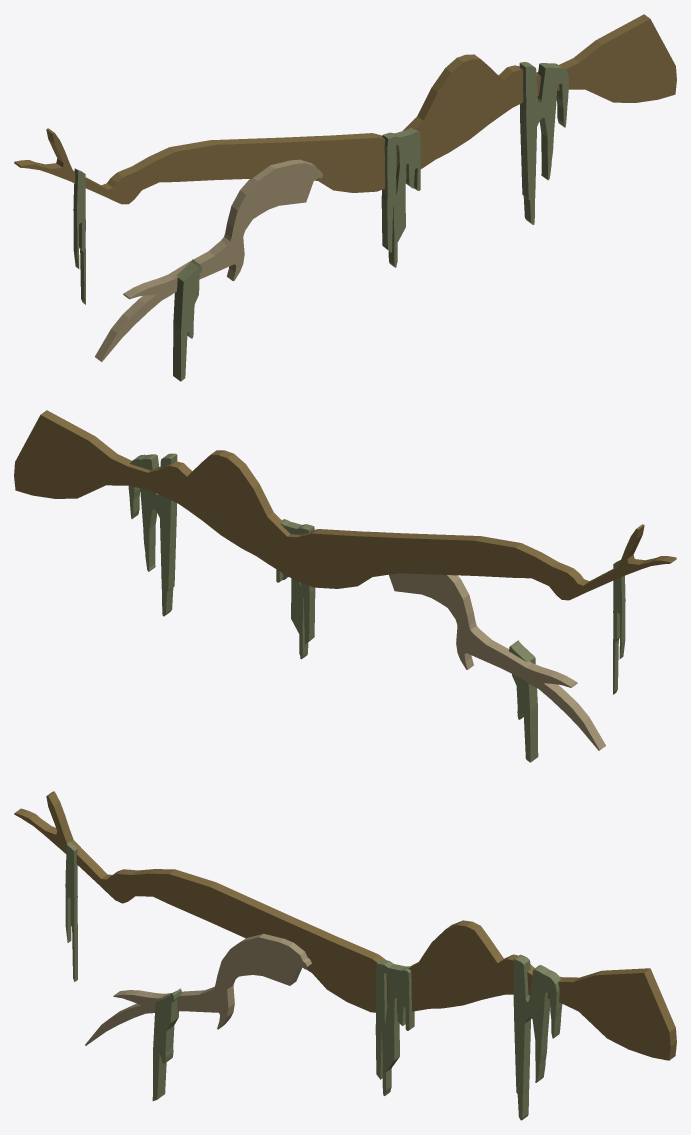
Rendered from Branch_1.fbx.
3 renders of one model, top to bottom at view 1: azimuth 30°, elevation 25°; view 2: azimuth 150°, elevation 25°; view 3: azimuth 330°, elevation 25°, orthographic.
Visible parts, largest first — view 1: pPlane41, pPlane42, pPlane45, pPlane43, pPlane46, pPlane44; view 2: pPlane41, pPlane42, pPlane45, pPlane43, pPlane46, pPlane44; view 3: pPlane41, pPlane42, pPlane45, pPlane43, pPlane46, pPlane44.
Boxes of the visible parts, left/top/right/bottom form: pPlane41: left=14, top=14, right=676, bottom=204; pPlane42: left=95, top=159, right=323, bottom=361; pPlane45: left=519, top=62, right=568, bottom=224; pPlane43: left=381, top=128, right=420, bottom=267; pPlane46: left=173, top=259, right=201, bottom=381; pPlane44: left=73, top=168, right=85, bottom=304; pPlane41: left=14, top=410, right=676, bottom=600; pPlane42: left=389, top=573, right=605, bottom=750; pPlane45: left=128, top=453, right=177, bottom=616; pPlane43: left=276, top=519, right=315, bottom=659; pPlane46: left=509, top=640, right=538, bottom=762; pPlane44: left=613, top=560, right=625, bottom=694; pPlane41: left=14, top=791, right=676, bottom=1060; pPlane42: left=85, top=933, right=311, bottom=1045; pPlane45: left=513, top=954, right=562, bottom=1120; pPlane43: left=375, top=959, right=414, bottom=1095; pPlane46: left=152, top=988, right=181, bottom=1100; pPlane44: left=65, top=842, right=77, bottom=981.
Bounding box in the file's own units: 1.43 × 0.5608 × 0.0651.
